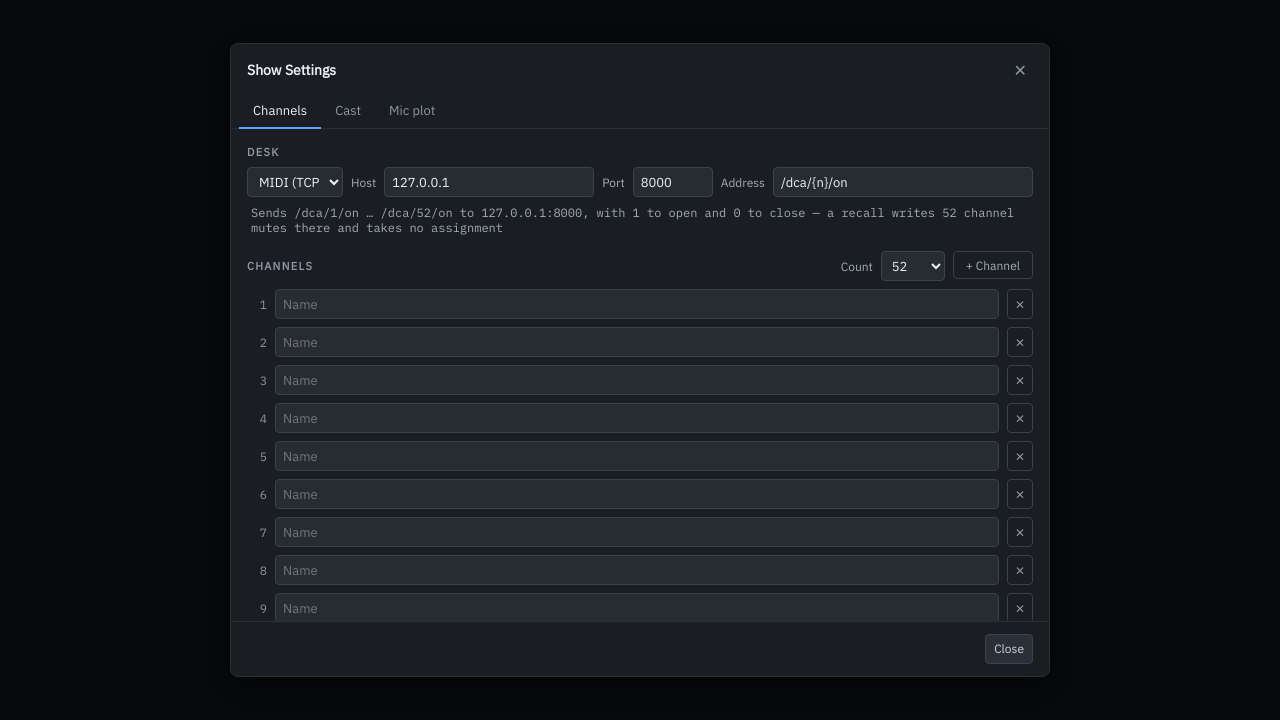
Test: ShowSettings › channels › stops the count at the desk model’s own ceiling, and reports a set larger than it
This screenshot has width=1280, height=720.
Select "MIDI (TCP)" in the dropdown with class "desk-kind" at (295, 182), box x1=247 y1=167 x2=343 y2=197
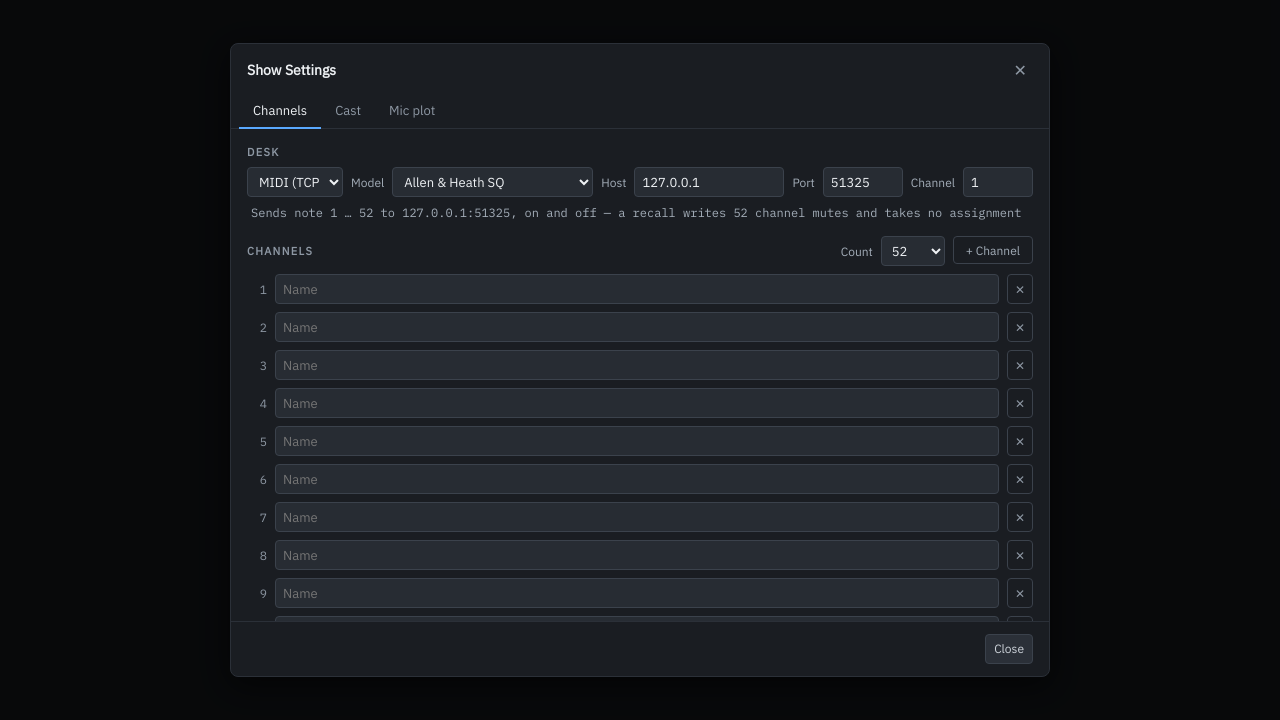
Select "Allen & Heath SQ" in the dropdown with class "desk-profile" at (493, 182), box x1=392 y1=167 x2=593 y2=197
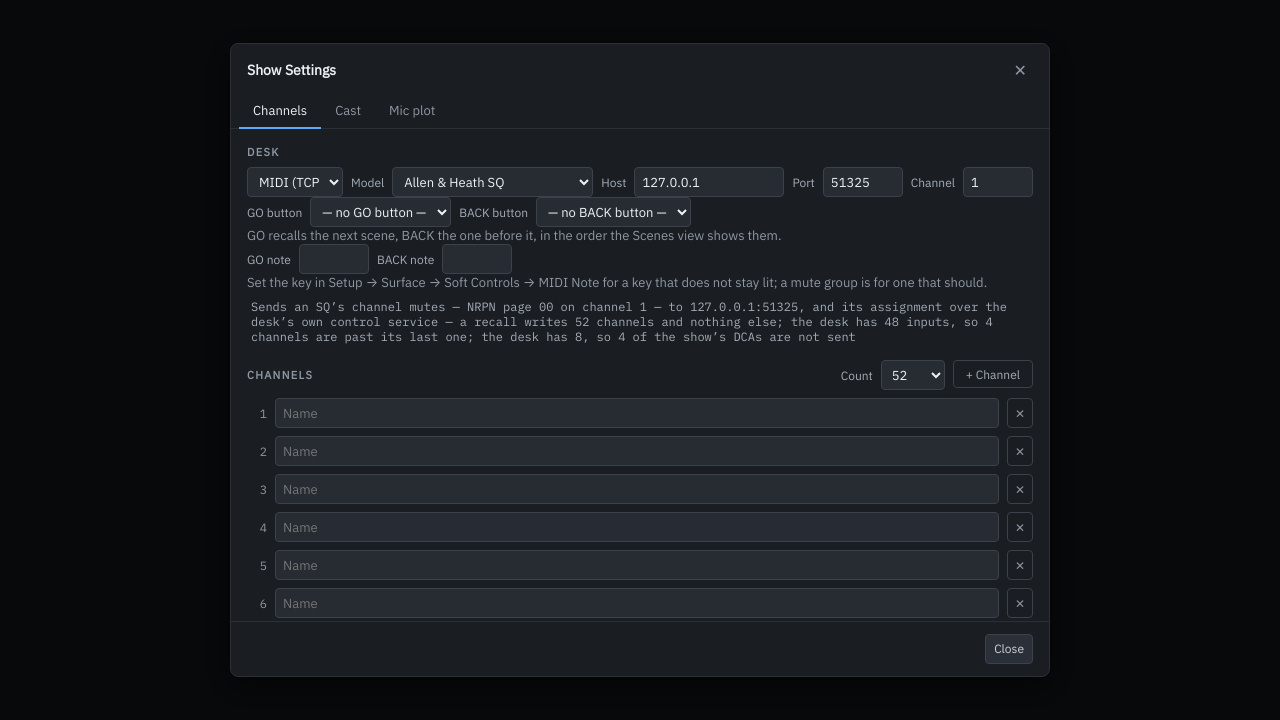
Expected: the text with class "desk-preview" shows "Sends an SQ’s channel mutes — NRPN page 00 on channel 1 — to 127.0.0.1:51325, and its assignment over the desk’s own control service — a recall writes 52 channe", x1=251 y1=299 x2=1007 y2=344
